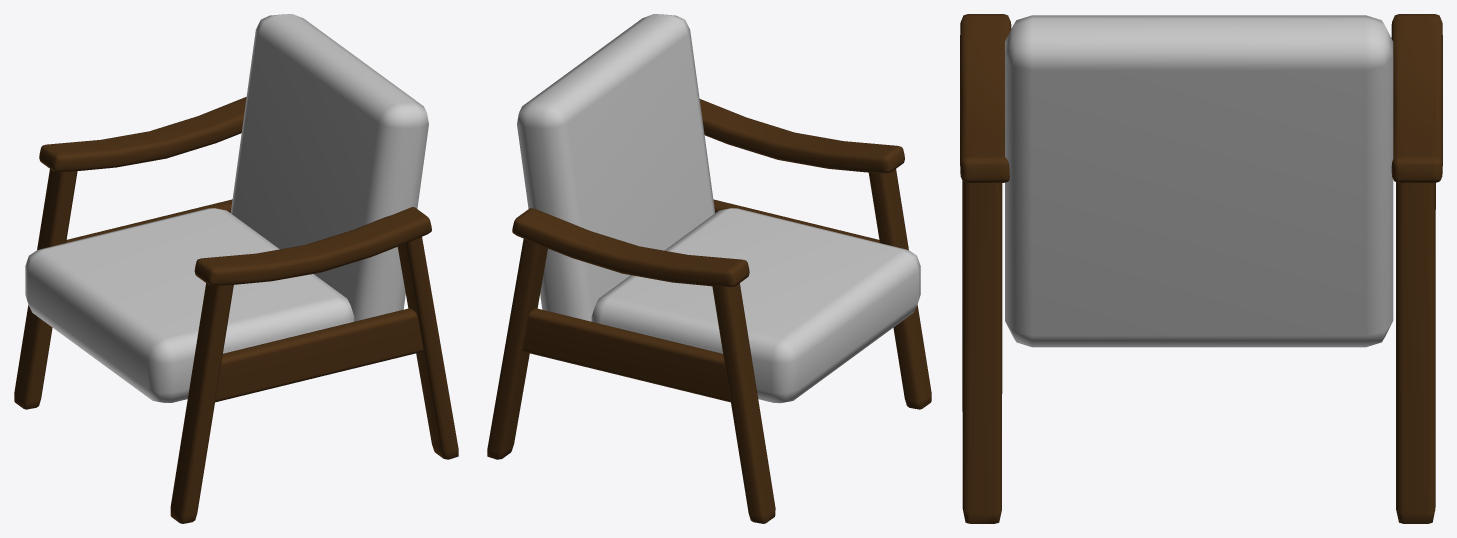
Rendered from armchair_08_white.fbx.
3 views of the same model, side by side, from view 1: azimuth 30°, elevation 25°; view 2: azimuth 150°, elevation 25°; view 3: azimuth 270°, elevation 25° (orthographic). The views are drawn at different scales.
Visible parts, largest first — view 1: armchair_08_white; view 2: armchair_08_white; view 3: armchair_08_white.
Boxes of the visible parts, <box> form: armchair_08_white: <box>14,14,458,523</box>; armchair_08_white: <box>487,14,931,523</box>; armchair_08_white: <box>960,14,1442,523</box>.
Size of the model in its own units: 94.97 by 109 by 99.4.
Materials: 2 (2 with a texture image).
